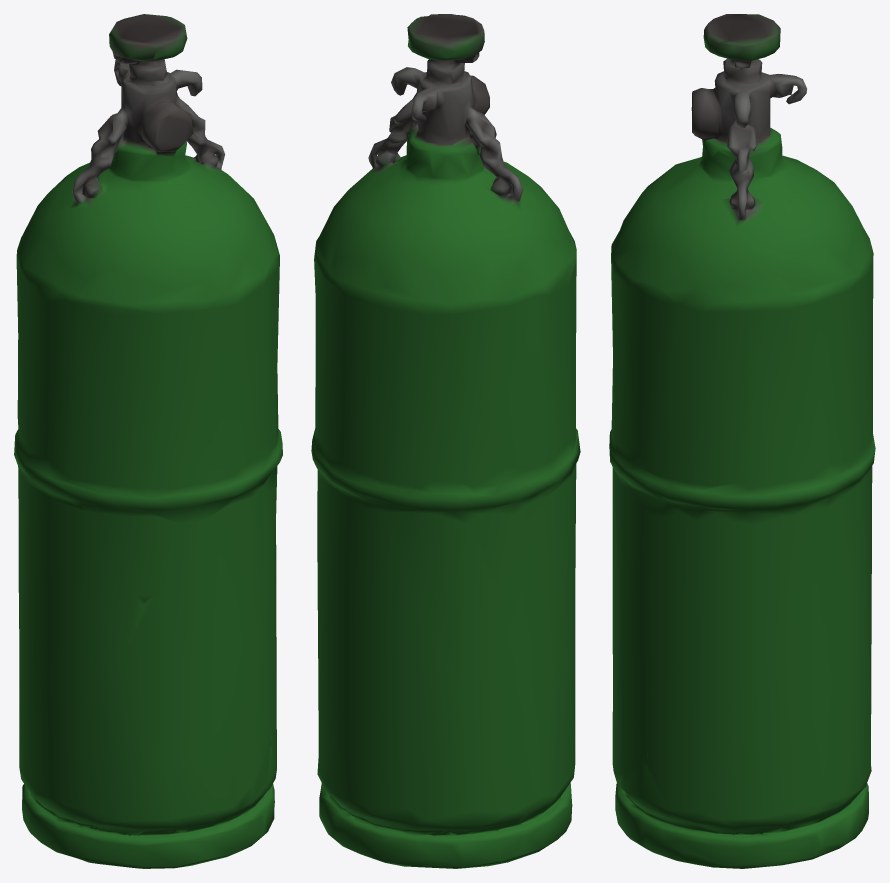
Rendered from gen3d-gas-cylinder-lod0.glb.
3 views of the same model, side by side, from view 1: azimuth 30°, elevation 25°; view 2: azimuth 150°, elevation 25°; view 3: azimuth 270°, elevation 25° (orthographic).
Parts seen in each view (by area): view 1: part_0; view 2: part_0; view 3: part_0.
Part boxes in pixels (bbox=[...]): part_0: bbox=[14, 14, 282, 868]; part_0: bbox=[311, 14, 580, 868]; part_0: bbox=[609, 14, 875, 868].
Size of the model in its own units: 0.3067 by 1 by 0.3054.
